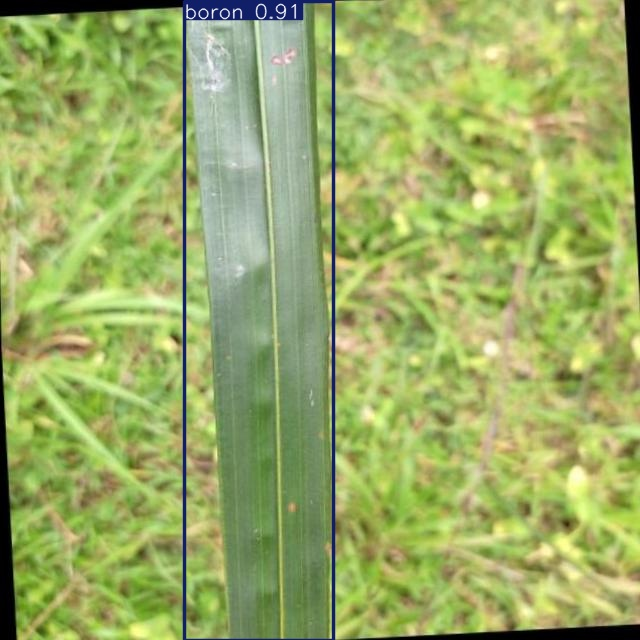nitrogen: (184, 1, 334, 640)
